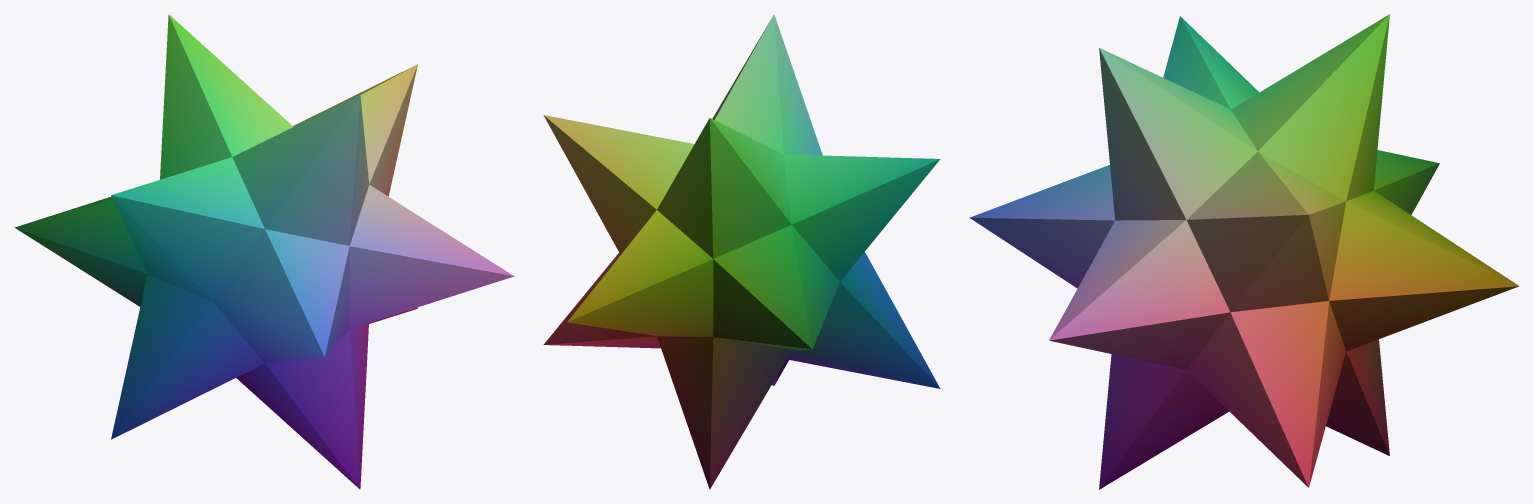
Rendered from zeometry-stars-spikes-stellated-dodecahedron_v2.glb.
3 views of the same model, side by side, from view 1: azimuth 30°, elevation 25°; view 2: azimuth 150°, elevation 25°; view 3: azimuth 270°, elevation 25° (orthographic). The views are drawn at different scales.
Parts seen in each view (by area): view 1: Stellated Dodecahedron_v2; view 2: Stellated Dodecahedron_v2; view 3: Stellated Dodecahedron_v2.
Boxes of the visible parts, x1,y1,x2,y2 form: Stellated Dodecahedron_v2: (14, 14, 514, 489); Stellated Dodecahedron_v2: (543, 14, 940, 489); Stellated Dodecahedron_v2: (969, 14, 1519, 489).
Bounding box in the file's own units: 0.4277 × 0.4434 × 0.5.
